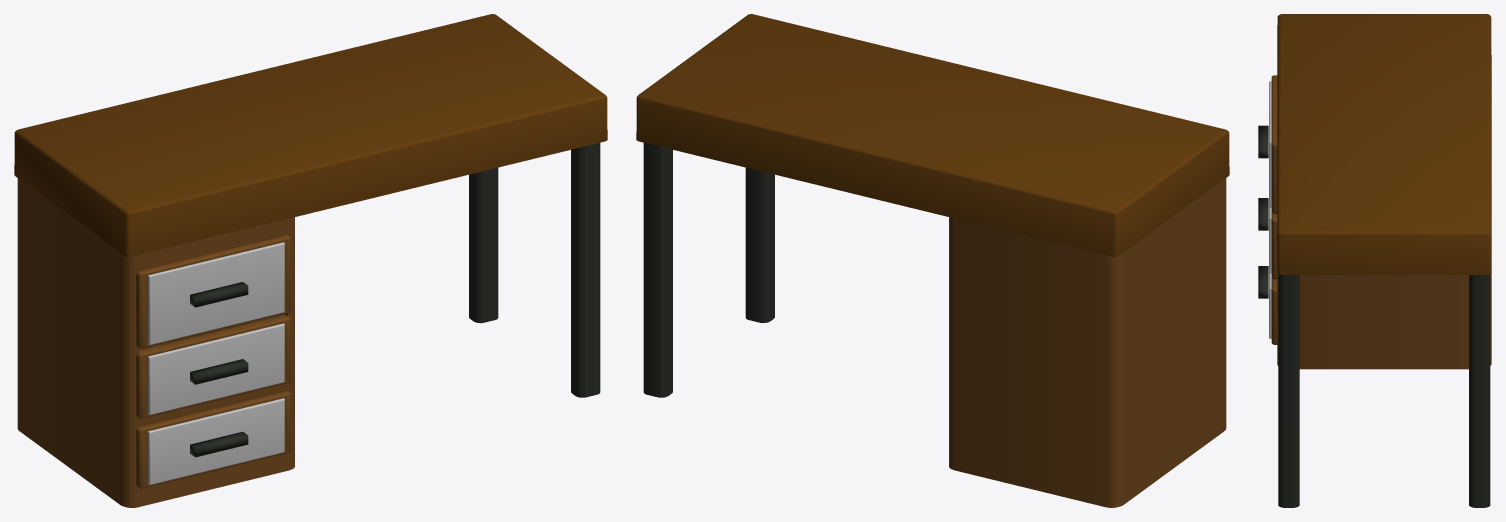
File: Table.fbx
3 views of the same model, side by side, from view 1: azimuth 30°, elevation 25°; view 2: azimuth 150°, elevation 25°; view 3: azimuth 270°, elevation 25° (orthographic). The views are drawn at different scales.
Visible parts, largest first — view 1: table; view 2: table; view 3: table.
Boxes of the visible parts, left/top/right/bottom form: table: left=14, top=14, right=607, bottom=507; table: left=636, top=14, right=1229, bottom=507; table: left=1258, top=14, right=1491, bottom=507.
Bounding box in the file's own units: 172 × 101 × 77.01.
1 material, 1 textured.
